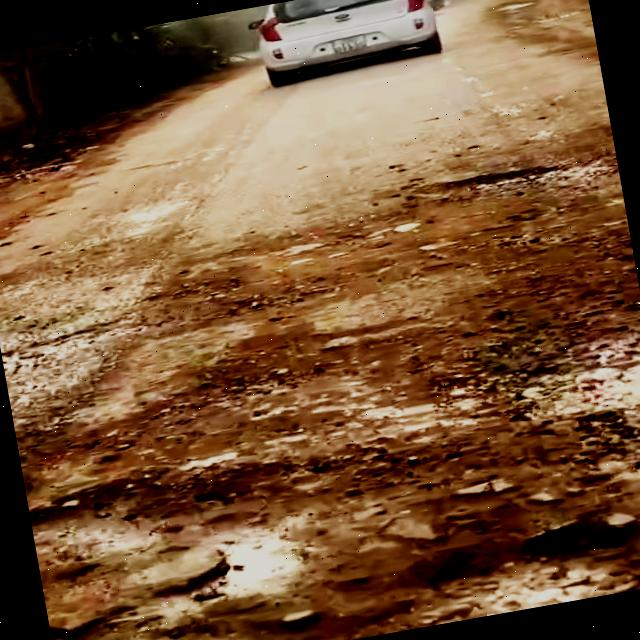pothole: (27, 451, 334, 640), (483, 308, 640, 491), (411, 149, 620, 214)
